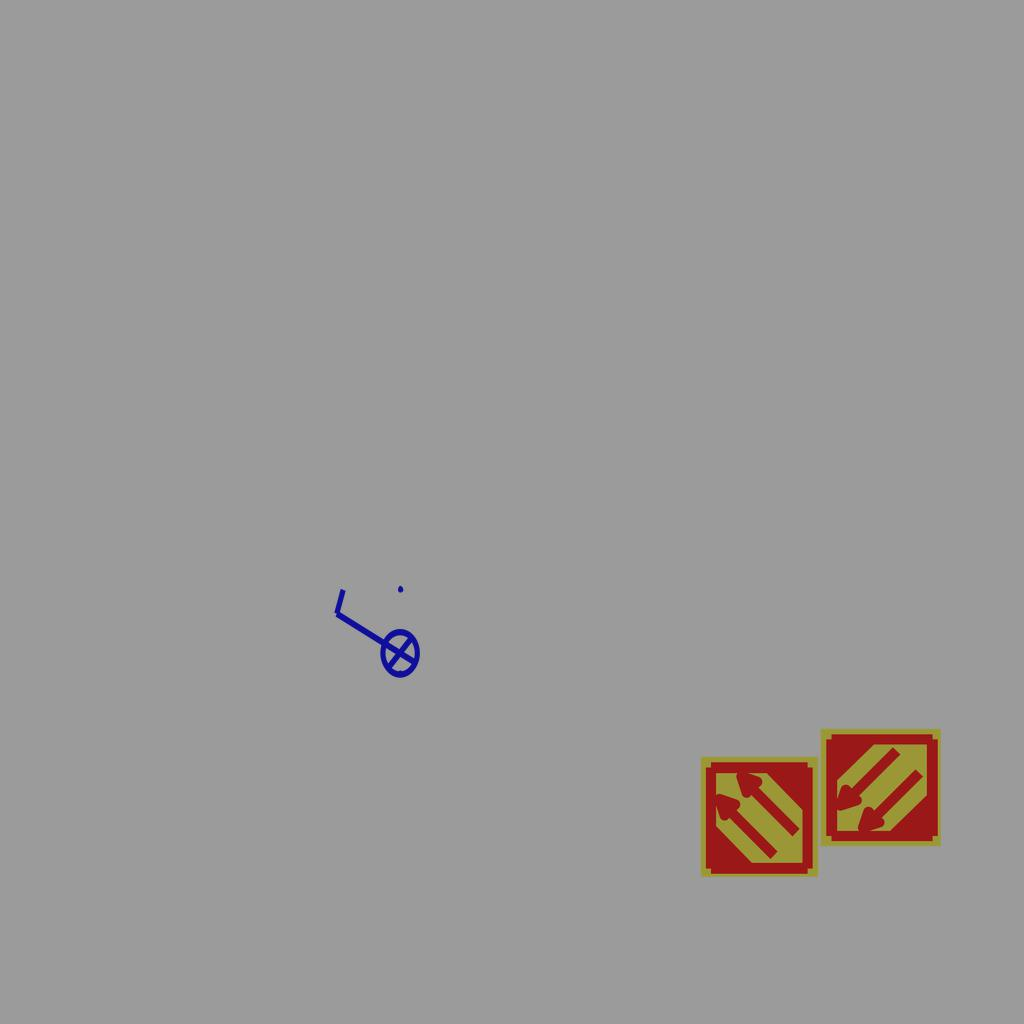ASR_Ansaugrauchmelder: (697, 754, 822, 879), (818, 725, 943, 850)
Ausschalter_beleuchtet: (326, 580, 422, 692)
